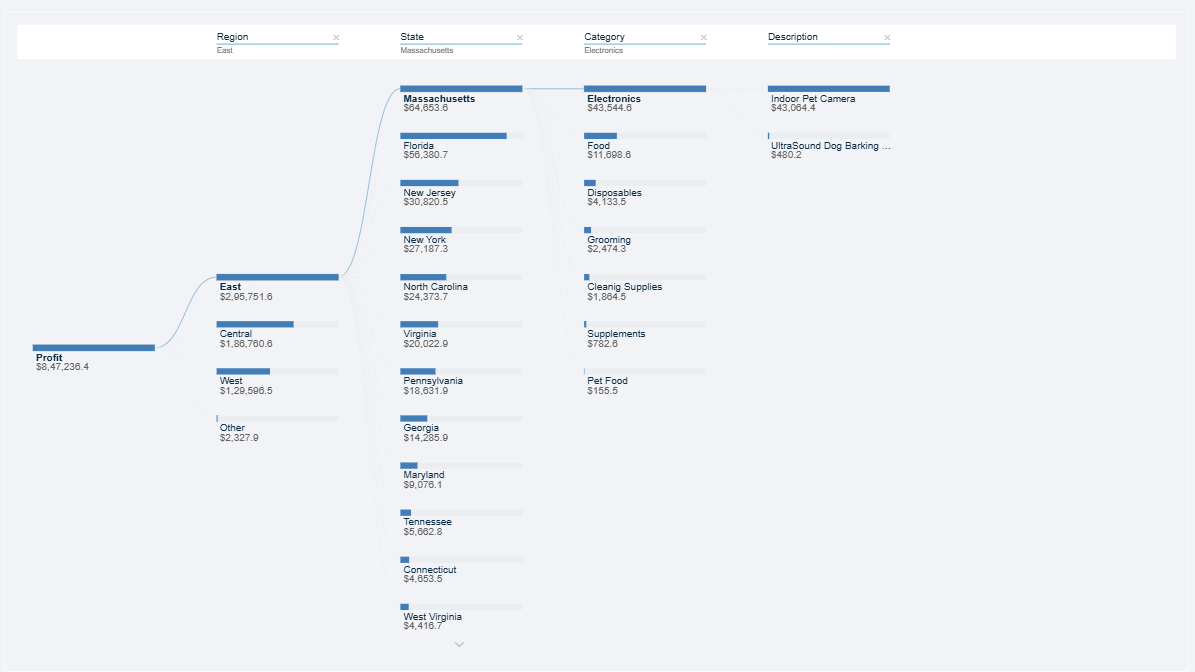

This screenshot's page, from the dashboard's own definition file:
{"tool":"powerbi","page":{"name":"Profit Driver Analysis","canvas":[1920,1080],"ordinal":7},"visuals":[{"type":"decompositionTreeVisual","fields":{"Analyze":["Meaures.Profit"],"ExplainBy":["dim_region.Region","dim_region.State","dim_products.Category","dim_products.Description"]},"box":[10,22.5,1895,1057.5],"z":0}]}

Visuals, with their boxes in screenshot pixels (x1, y1, x2, y2), scaled from the page's 1920x1080 canvas onto the 1195x672 screenshot:
decompositionTreeVisual - Meaures.Profit x dim_region.Region: 6,14,1186,671
